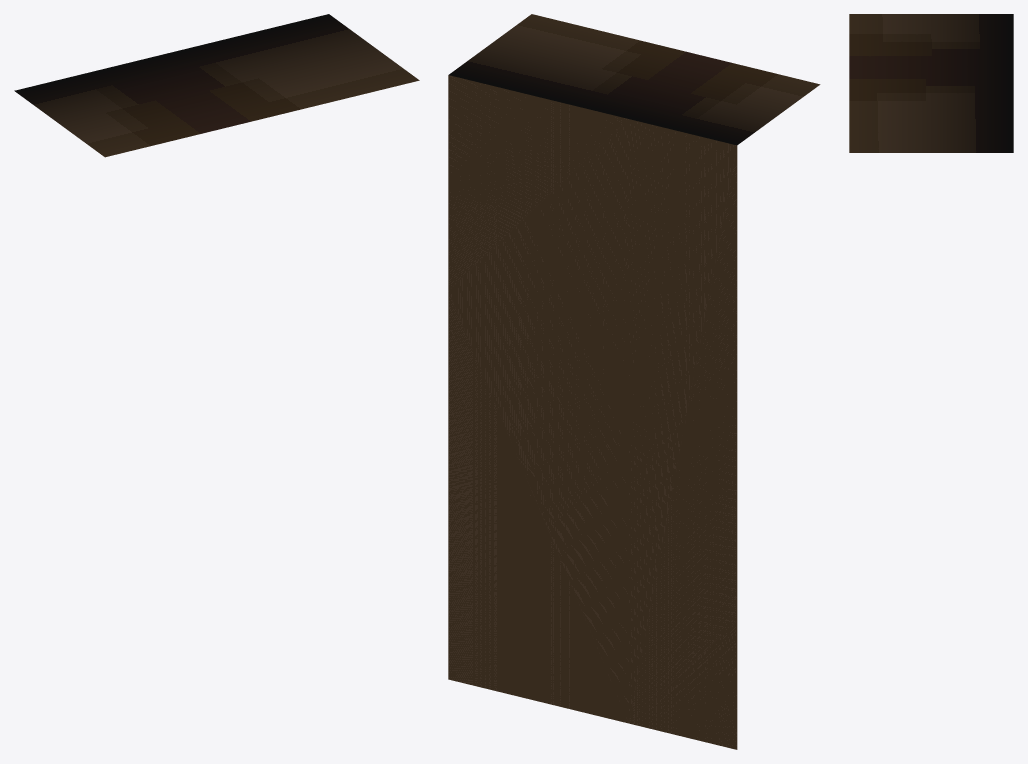
3 views of the same model, side by side, from view 1: azimuth 30°, elevation 25°; view 2: azimuth 150°, elevation 25°; view 3: azimuth 270°, elevation 25° (orthographic). The views are drawn at different scales.
Size of the model in its own units: 1 by 2 by 0.5.
1 material, 1 textured.
